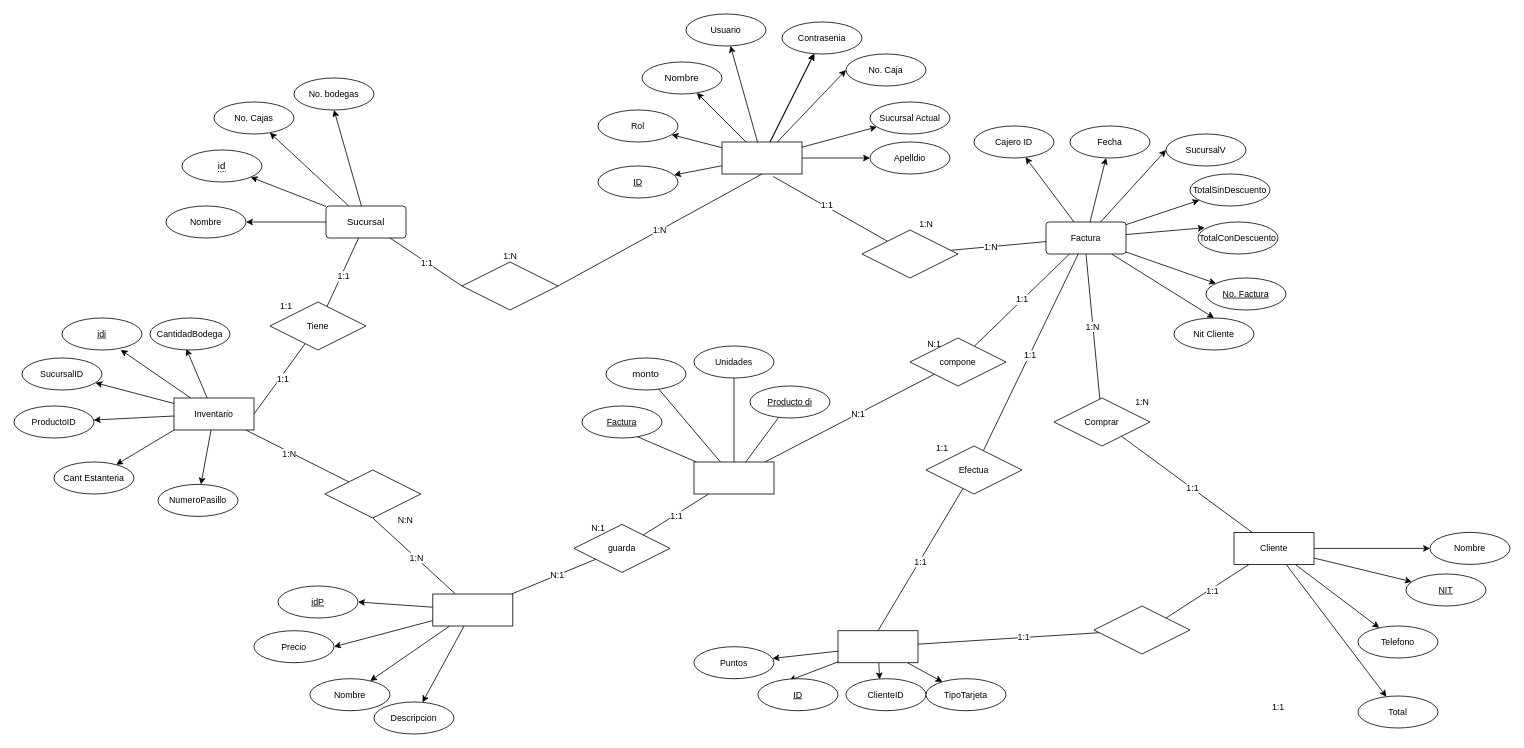
Some shapes in this 1524 by 748 pixel diagram are drawn without their labels. The centre of each missing label's shape, as x and y in pixels:
"Almacena" goes at point (372, 493).
"Contratar" goes at point (509, 285).
"Empleado" goes at point (761, 157).
"Obtener" goes at point (1141, 629).
"Producto" goes at point (472, 609).
"Realizar" goes at point (909, 253).
"Tarjeta" goes at point (877, 646).
"venta" goes at point (733, 477).
